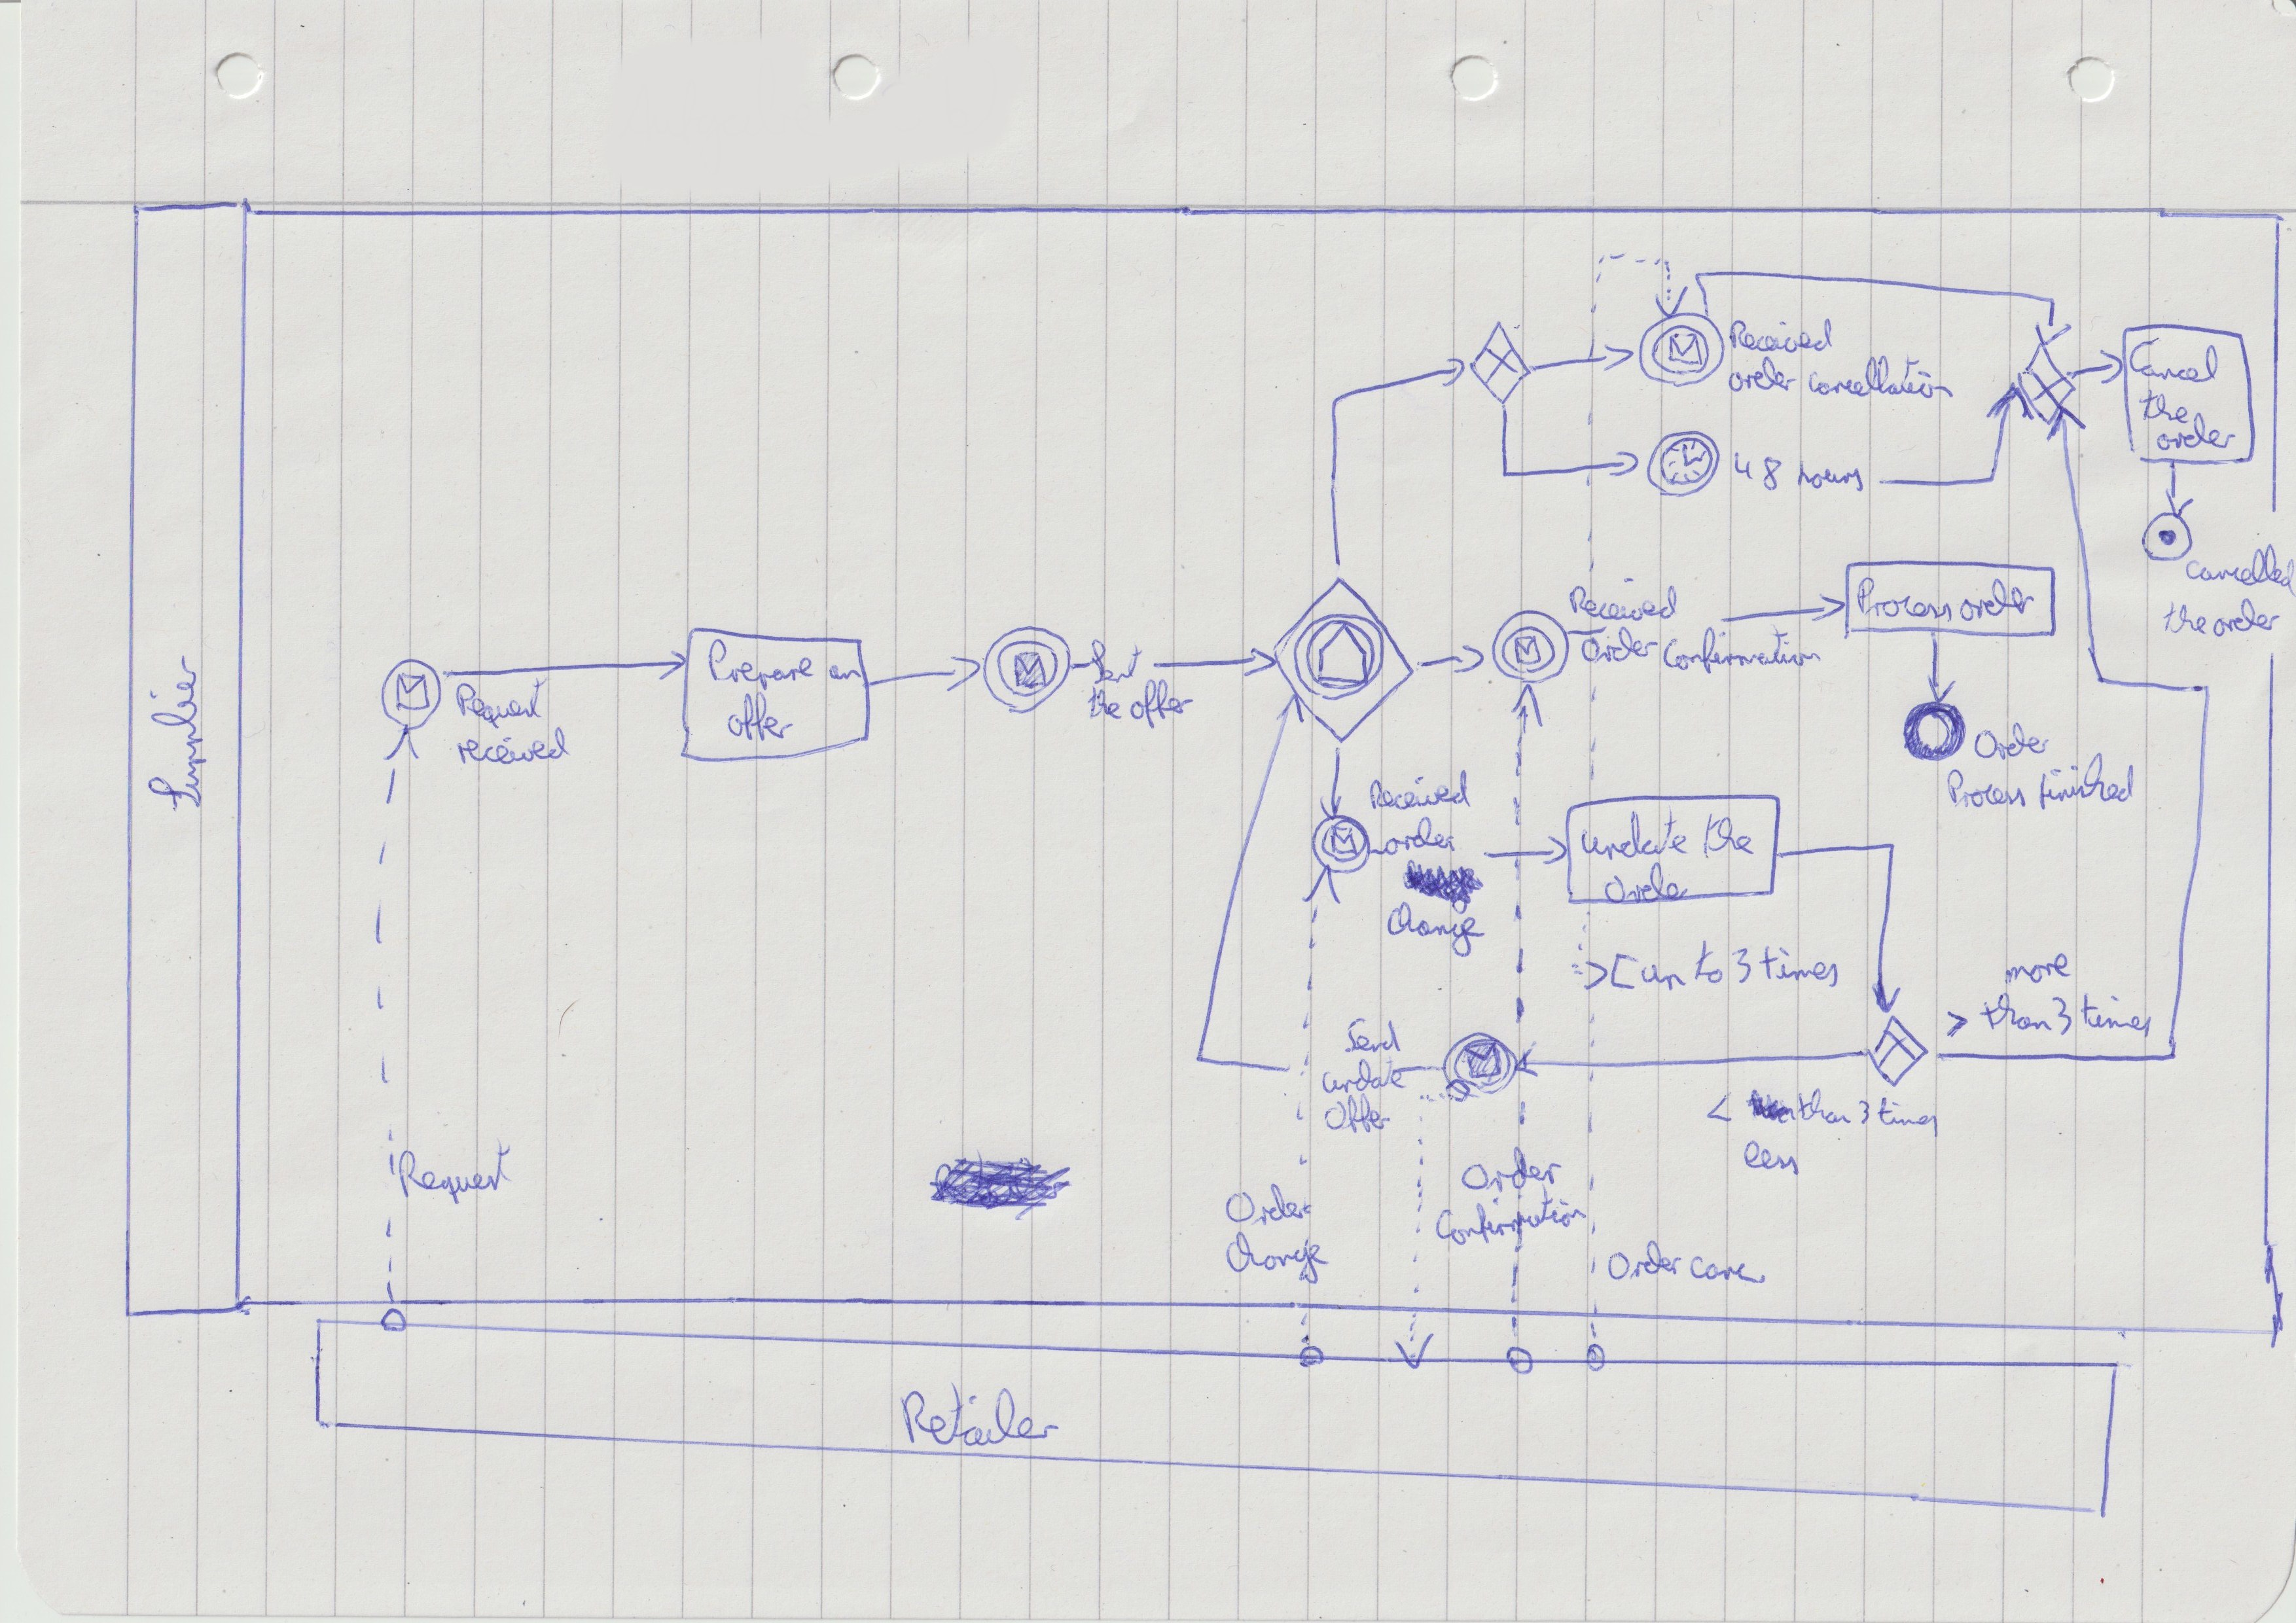3: (1732, 945, 1758, 992), (2052, 994, 2076, 1038), (1853, 1089, 1873, 1138)
48: (1727, 448, 1788, 490)
<: (1704, 1084, 1729, 1131)
>: (1941, 999, 1973, 1043)
Cancel: (2119, 337, 2224, 390)
Change: (1223, 1235, 1325, 1282), (1383, 901, 1479, 947)
Confirmation: (1428, 1196, 1588, 1252), (1657, 632, 1823, 673)
Order: (1219, 1182, 1312, 1231), (1462, 1151, 1563, 1194), (1969, 717, 2055, 762), (1604, 866, 1695, 906), (1611, 1242, 1683, 1284), (1581, 631, 1651, 671)
Prepare: (703, 643, 815, 689)
Process: (1859, 578, 1953, 625), (1952, 768, 2024, 813)
Received: (1365, 773, 1476, 815), (1725, 320, 1843, 358), (1569, 585, 1681, 622)
Request: (390, 1145, 515, 1200), (451, 676, 546, 718)
Retailer: (894, 1382, 1066, 1456)
Send: (1087, 634, 1145, 685), (1340, 1015, 1402, 1059)
Supplier: (151, 653, 207, 817)
Update: (1581, 813, 1693, 868)
an: (827, 652, 863, 683)
cancellation: (1799, 362, 1962, 404)
cancelled: (2180, 550, 2289, 590)
care: (1685, 1247, 1765, 1291)
finished: (2038, 764, 2136, 811)
hours: (1792, 455, 1869, 495)
less: (1741, 1136, 1802, 1184)
more: (2006, 950, 2069, 989)
offer: (724, 701, 794, 741), (1124, 685, 1196, 724), (1330, 1100, 1391, 1135)
order: (1952, 578, 2034, 625), (1381, 819, 1463, 861), (2206, 599, 2285, 639), (2155, 422, 2236, 457), (1723, 360, 1794, 399)
received: (451, 727, 571, 768)
than: (1982, 996, 2047, 1040), (1795, 1091, 1850, 1129)
the: (1700, 811, 1755, 862), (2136, 390, 2191, 425), (2166, 601, 2205, 639), (1087, 685, 1117, 724)
times: (1762, 945, 1846, 992), (2078, 994, 2152, 1038), (1873, 1094, 1938, 1135)
unto: (1613, 947, 1722, 994)
update: (1325, 1057, 1405, 1096)
